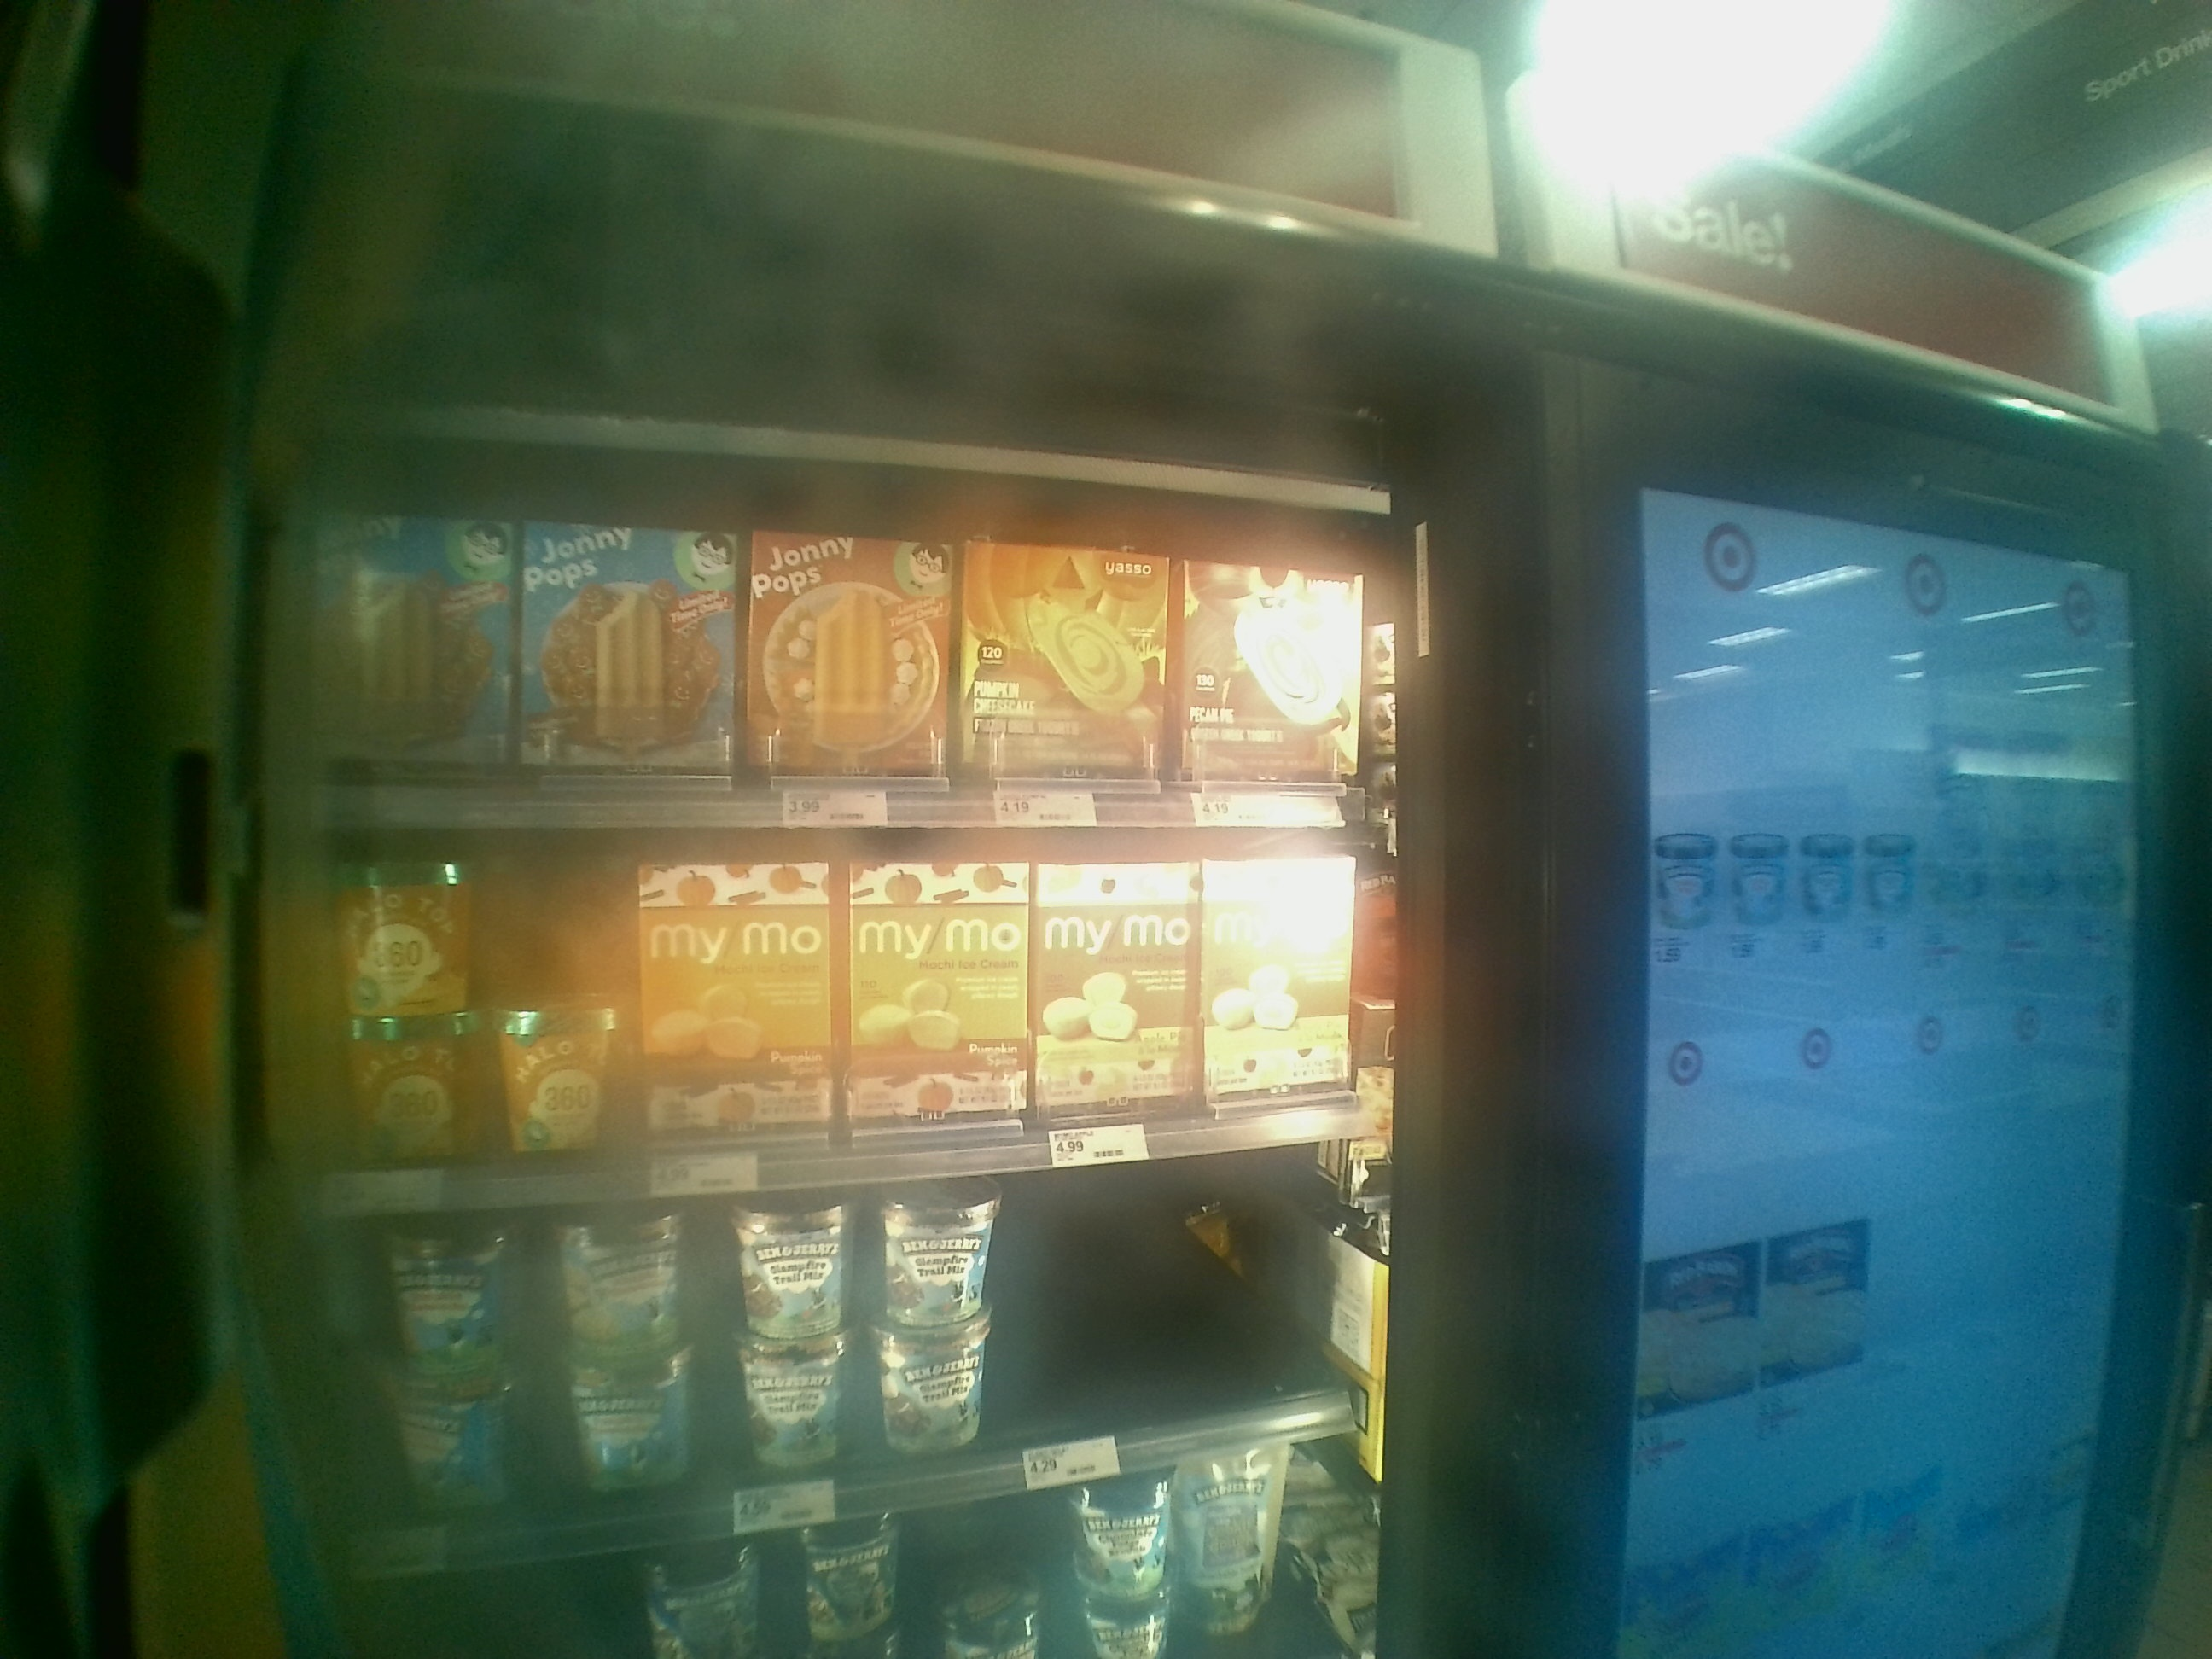shelf: (273, 411, 1379, 823), (284, 803, 1385, 1140), (268, 1166, 1374, 1432)
